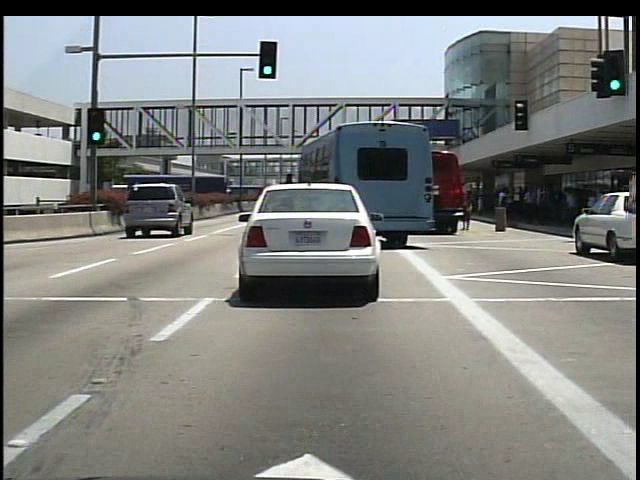person: (461, 184, 474, 235)
